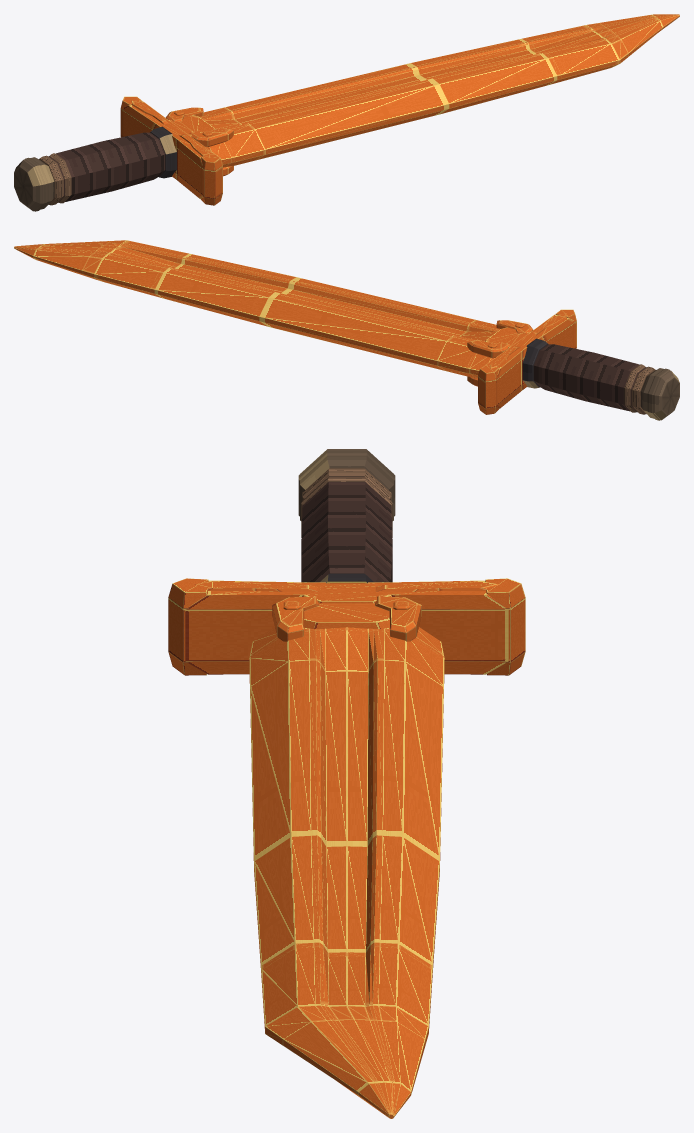
The model's file is bench_xuantie_sword_5_hot.obj.
3 views of the same model, one above another, from view 1: azimuth 30°, elevation 25°; view 2: azimuth 150°, elevation 25°; view 3: azimuth 270°, elevation 25° (orthographic). The views are drawn at different scales.
Visible parts, largest first — view 1: geometry; view 2: geometry; view 3: geometry.
Part boxes in pixels (box(x1,y1,x2,y2)): geometry: box(14, 14, 679, 211); geometry: box(14, 240, 679, 420); geometry: box(168, 449, 525, 1118).
Bounding box in the file's own units: 0.75 × 0.0488 × 0.1799.
